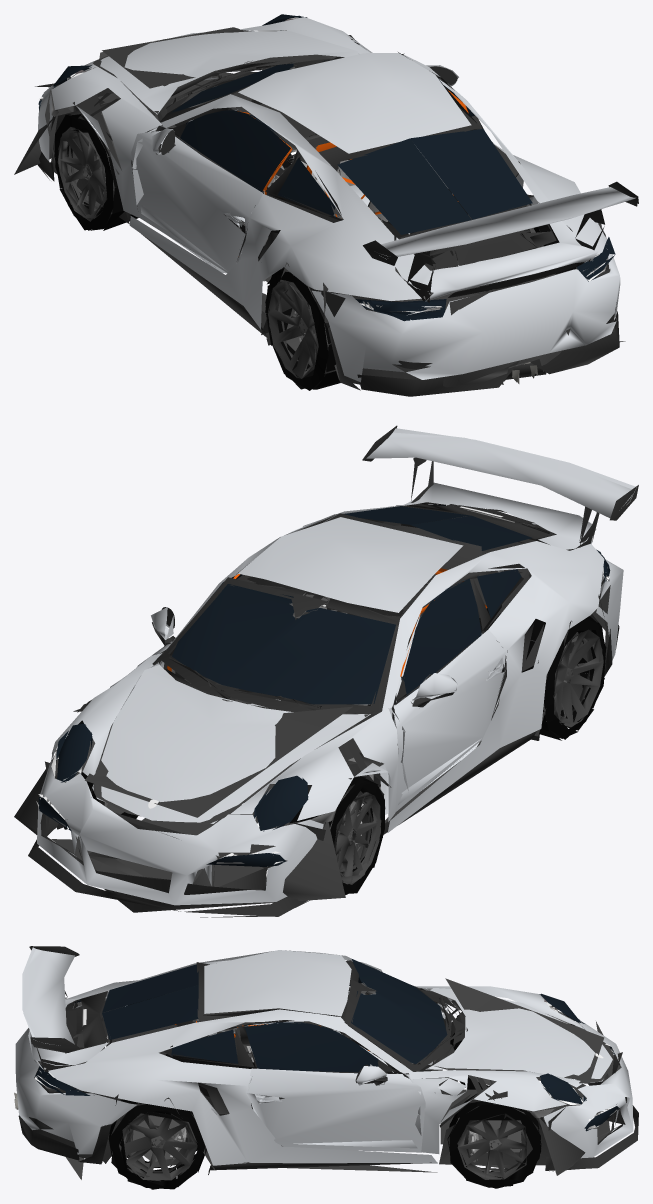
The model's file is porsche-911-gt3-race.glb.
The picture shows the model from 3 angles, top to bottom: view 1: azimuth 30°, elevation 25°; view 2: azimuth 150°, elevation 25°; view 3: azimuth 270°, elevation 25°; orthographic projection. The views are drawn at different scales.
Parts seen in each view (by area): view 1: Paint, Glass, Trim.044, Trim.047, Trim.050, Metal.073, Rubber.007, Trim.049, Rubber.004, Metal.026, Trim.031, Trim.037 (+7 smaller); view 2: Paint, Glass, Trim.047, Trim.037, Trim.063, Trim.044, Trim.031, Metal.073, Trim.036, Rubber.007, Metal.026, Rubber.004 (+5 smaller); view 3: Paint, Glass, Trim.047, Trim.044, Metal.013, Rubber.008, Metal.093, Rubber.002, Trim.063, Trim.031, Trim.037, Trim.050 (+7 smaller).
Boxes of the visible parts, <box> form: Paint: <box>38,17,635,382</box>; Glass: <box>38,14,615,321</box>; Trim.044: <box>90,39,556,345</box>; Trim.047: <box>35,27,625,380</box>; Trim.050: <box>330,263,619,396</box>; Metal.073: <box>267,280,335,378</box>; Rubber.007: <box>265,267,340,390</box>; Trim.049: <box>309,229,614,387</box>; Rubber.004: <box>54,114,138,230</box>; Metal.026: <box>58,130,113,221</box>; Trim.031: <box>168,72,531,255</box>; Trim.037: <box>14,52,243,174</box>; Paint: <box>37,428,636,905</box>; Glass: <box>38,504,610,866</box>; Trim.047: <box>45,523,606,890</box>; Trim.037: <box>14,756,345,912</box>; Trim.063: <box>159,577,490,714</box>; Trim.044: <box>77,502,555,834</box>; Trim.031: <box>169,506,529,759</box>; Metal.073: <box>530,629,603,727</box>; Trim.036: <box>28,822,325,917</box>; Rubber.007: <box>507,616,606,740</box>; Metal.026: <box>335,792,380,884</box>; Rubber.004: <box>289,776,385,894</box>; Paint: <box>15,947,633,1165</box>; Glass: <box>35,959,619,1131</box>; Trim.047: <box>39,978,625,1179</box>; Trim.044: <box>65,990,501,1174</box>; Metal.013: <box>119,1103,197,1181</box>; Rubber.008: <box>447,1094,541,1188</box>; Metal.093: <box>457,1104,527,1179</box>; Rubber.002: <box>108,1099,206,1189</box>; Trim.063: <box>164,980,451,1071</box>; Trim.031: <box>102,960,457,1095</box>; Trim.037: <box>538,1014,626,1175</box>; Trim.050: <box>18,1115,111,1164</box>.
Size of the model in its own units: 2.05 by 1.24 by 4.28.
